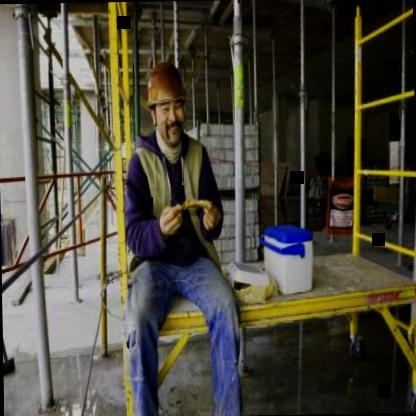helmet: (139, 60, 193, 150)
